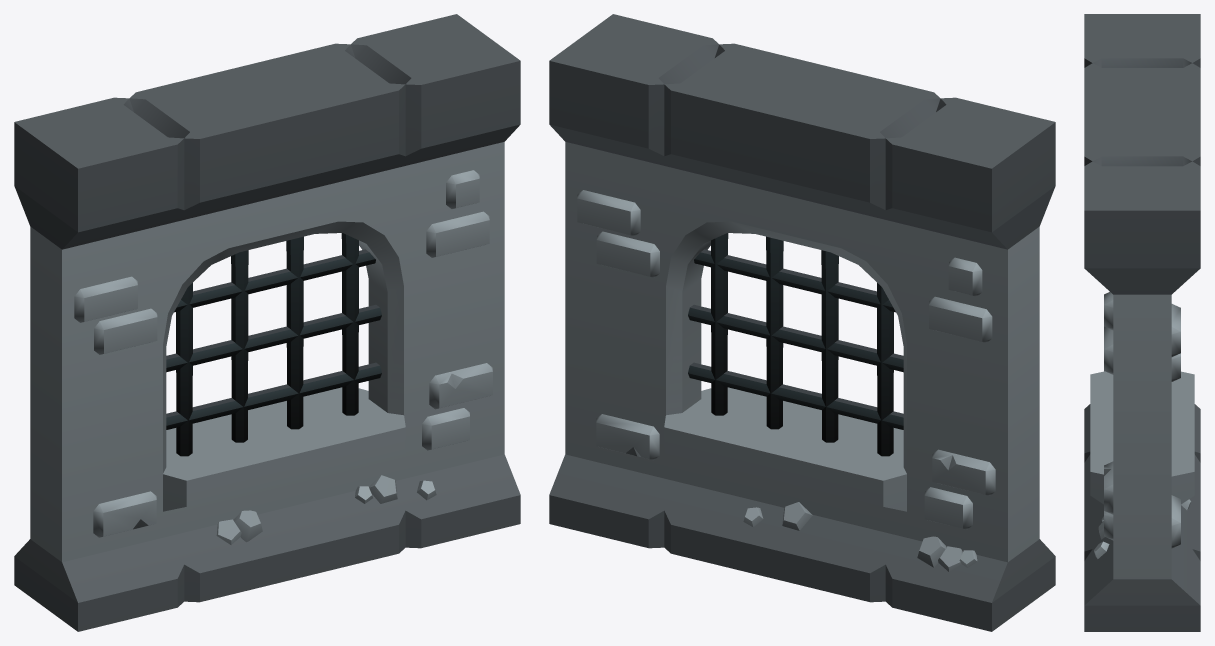
Rendered from wall_archedwindow_gated.gltf.
3 views of the same model, side by side, from view 1: azimuth 30°, elevation 25°; view 2: azimuth 150°, elevation 25°; view 3: azimuth 270°, elevation 25° (orthographic). The views are drawn at different scales.
Visible parts, largest first — view 1: wall_archedwindow_gated; view 2: wall_archedwindow_gated; view 3: wall_archedwindow_gated.
Part boxes in pixels (x1=…): wall_archedwindow_gated: x1=14, y1=14, x2=520, y2=631; wall_archedwindow_gated: x1=549, y1=14, x2=1055, y2=631; wall_archedwindow_gated: x1=1084, y1=14, x2=1200, y2=631.
Size of the model in its own units: 4 by 4 by 1.
1 material, 1 textured.
